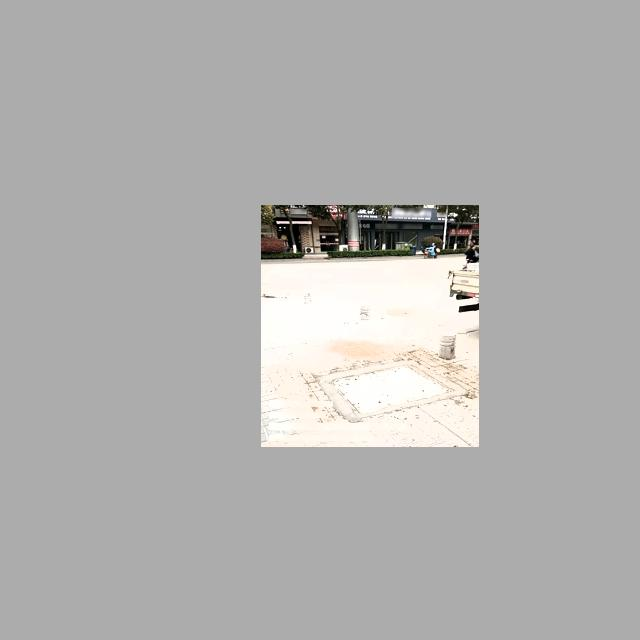good: (321, 363, 453, 412)
